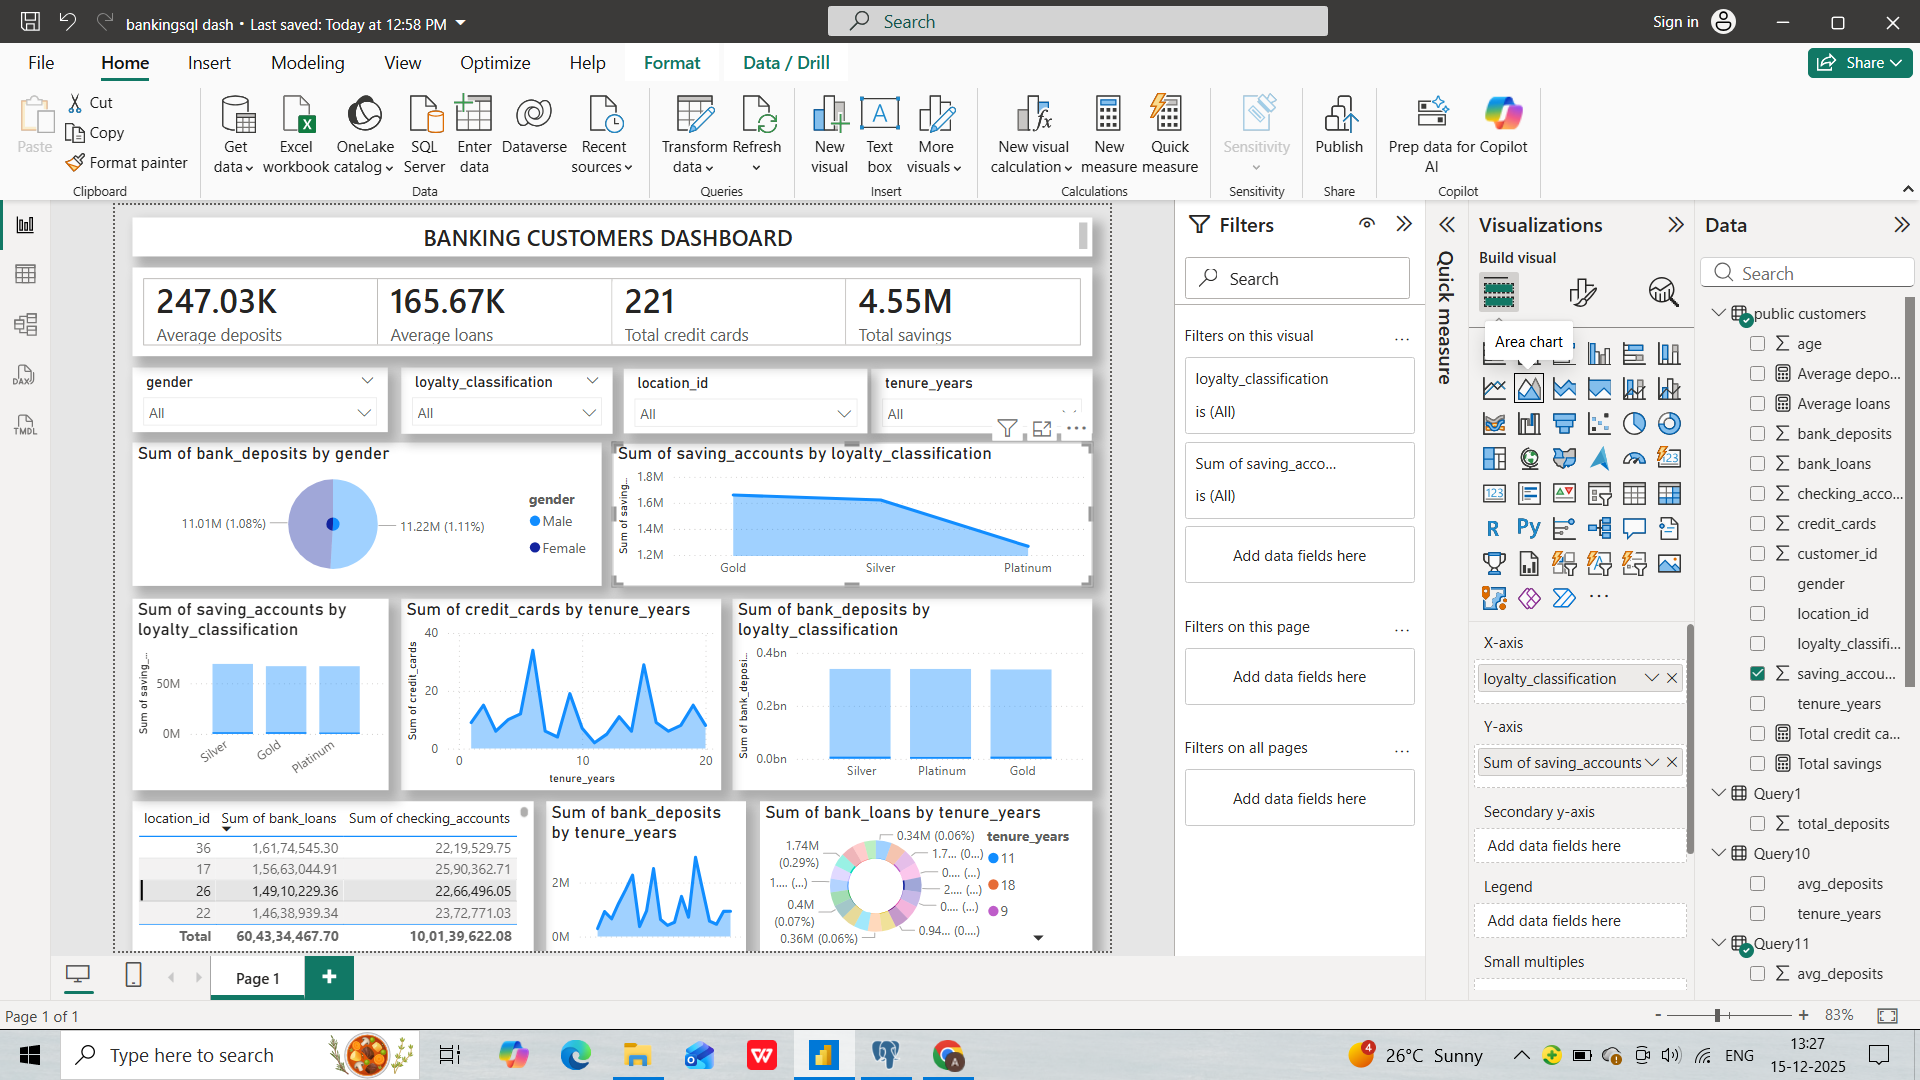

This screenshot's page, from the dashboard's own definition file:
{"tool":"powerbi","page":{"name":"Page 1","canvas":[960,720],"ordinal":0},"visuals":[{"type":"slicer","fields":{"Values":["public customers.tenure_years"]},"box":[729.9,158,213.5,62.7],"z":1},{"type":"clusteredColumnChart","fields":{"Category":["public customers.loyalty_classification"],"Y":["Sum(public customers.bank_deposits)"]},"box":[596,380,347.5,184.6],"z":2},{"type":"stackedAreaChart","fields":{"Category":["public customers.tenure_years"],"Y":["Sum(public customers.credit_cards)"]},"box":[276.3,380,308.8,184.6],"z":4},{"type":"stackedAreaChart","fields":{"Category":["public customers.tenure_years"],"Y":["Sum(public customers.bank_deposits)"]},"box":[416.2,575.5,193,144.8],"z":5},{"type":"pieChart","fields":{"Y":["Sum(public customers.bank_deposits)"],"Category":["public customers.gender"]},"box":[16.9,229.2,452.4,138.7],"z":7},{"type":"tableEx","fields":{"Values":["public customers.location_id","Sum(public customers.bank_loans)","Sum(public customers.checking_accounts)"]},"box":[16.9,575.5,387.3,144.8],"z":8},{"type":"clusteredColumnChart","fields":{"Category":["public customers.loyalty_classification"],"Y":["Sum(public customers.saving_accounts)"]},"box":[16.9,380,247.3,184.6],"z":9},{"type":"areaChart","fields":{"Category":["Query11.loyalty_classification"],"Y":["Sum(public customers.saving_accounts)"]},"box":[480.2,229.2,463.3,138.7],"z":10},{"type":"slicer","fields":{"Values":["public customers.tenure_years"]},"box":[980.7,0,299.3,74.1],"z":11},{"type":"donutChart","fields":{"Category":["public customers.tenure_years"],"Y":["Sum(public customers.bank_loans)"]},"box":[622.5,575.5,320.9,144.8],"z":12},{"type":"slicer","fields":{"Values":["public customers.loyalty_classification"]},"box":[276.3,156.8,203.9,63.9],"z":13},{"type":"slicer","fields":{"Values":["public customers.location_id"]},"box":[491,158,235.3,62.7],"z":14},{"type":"slicer","fields":{"Values":["public customers.gender"]},"box":[16.9,156.8,246.1,62.7],"z":15},{"type":"textbox","box":[16.9,12.1,926.5,37.4],"z":16},{"type":"cardVisual","fields":{"Data":["public customers.Average deposits","public customers.Average loans","public customers.Total credit cards","public customers.Total savings"]},"box":[16.9,60.3,926.5,85.7],"z":17}]}

Visuals, with their boxes on the page's 960x720 design canvas (x1, y1, x2, y2). These are canvas units, not pixel positions in the 1920x1080 screenshot, which may show the page scaled, cropped or inside an application window:
slicer - public customers.tenure_years: bbox=[730, 158, 943, 221]
clusteredColumnChart - public customers.loyalty_classification x Sum(public customers.bank_deposits): bbox=[596, 380, 944, 565]
stackedAreaChart - public customers.tenure_years x Sum(public customers.credit_cards): bbox=[276, 380, 585, 565]
stackedAreaChart - public customers.tenure_years x Sum(public customers.bank_deposits): bbox=[416, 576, 609, 720]
pieChart - Sum(public customers.bank_deposits) x public customers.gender: bbox=[17, 229, 469, 368]
tableEx - public customers.location_id x Sum(public customers.bank_loans): bbox=[17, 576, 404, 720]
clusteredColumnChart - public customers.loyalty_classification x Sum(public customers.saving_accounts): bbox=[17, 380, 264, 565]
areaChart - Query11.loyalty_classification x Sum(public customers.saving_accounts): bbox=[480, 229, 944, 368]
slicer - public customers.tenure_years: bbox=[981, 0, 1280, 74]
donutChart - public customers.tenure_years x Sum(public customers.bank_loans): bbox=[622, 576, 943, 720]
slicer - public customers.loyalty_classification: bbox=[276, 157, 480, 221]
slicer - public customers.location_id: bbox=[491, 158, 726, 221]
slicer - public customers.gender: bbox=[17, 157, 263, 220]
textbox: bbox=[17, 12, 943, 50]
cardVisual - public customers.Average deposits x public customers.Average loans: bbox=[17, 60, 943, 146]
